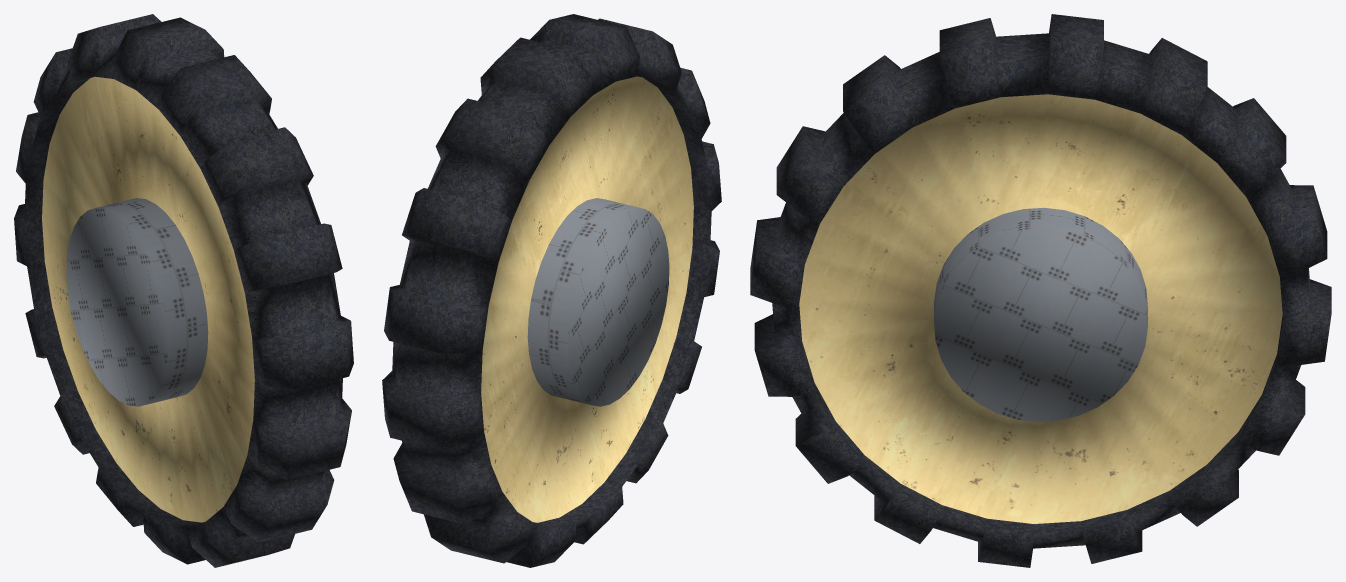
The model's file is PlayerWheel.glb.
3 views of the same model, side by side, from view 1: azimuth 30°, elevation 25°; view 2: azimuth 150°, elevation 25°; view 3: azimuth 270°, elevation 25° (orthographic). The views are drawn at different scales.
Parts seen in each view (by area): view 1: Circle; view 2: Circle; view 3: Circle.
Part boxes in pixels (x1=…): Circle: x1=14, y1=14, x2=353, y2=567; Circle: x1=382, y1=14, x2=721, y2=567; Circle: x1=750, y1=14, x2=1331, y2=567.
Size of the model in its own units: 0.75 by 2.7 by 2.7.
Materials: 3 (3 with a texture image).
